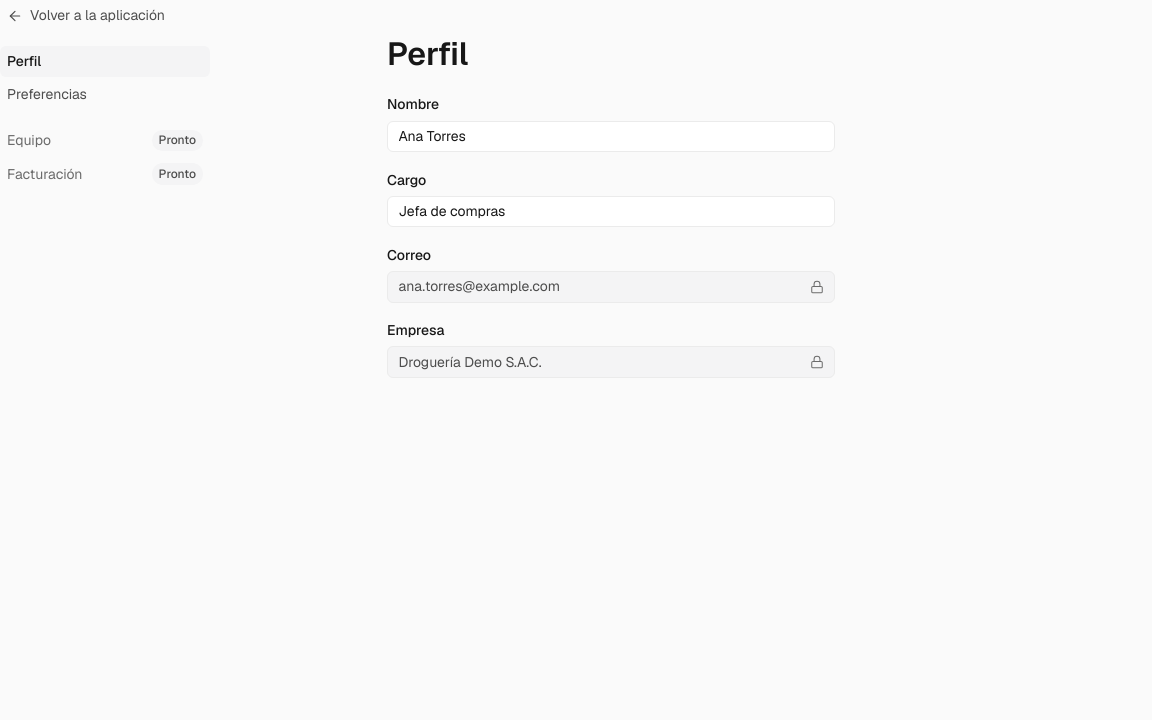
profile (settings) › saves, confirms with a toast and updates the name shown in the app
Replace the text in the field labelled "Nombre" with "Ana Torres Díaz" at (611, 136), box [398, 126, 824, 147]
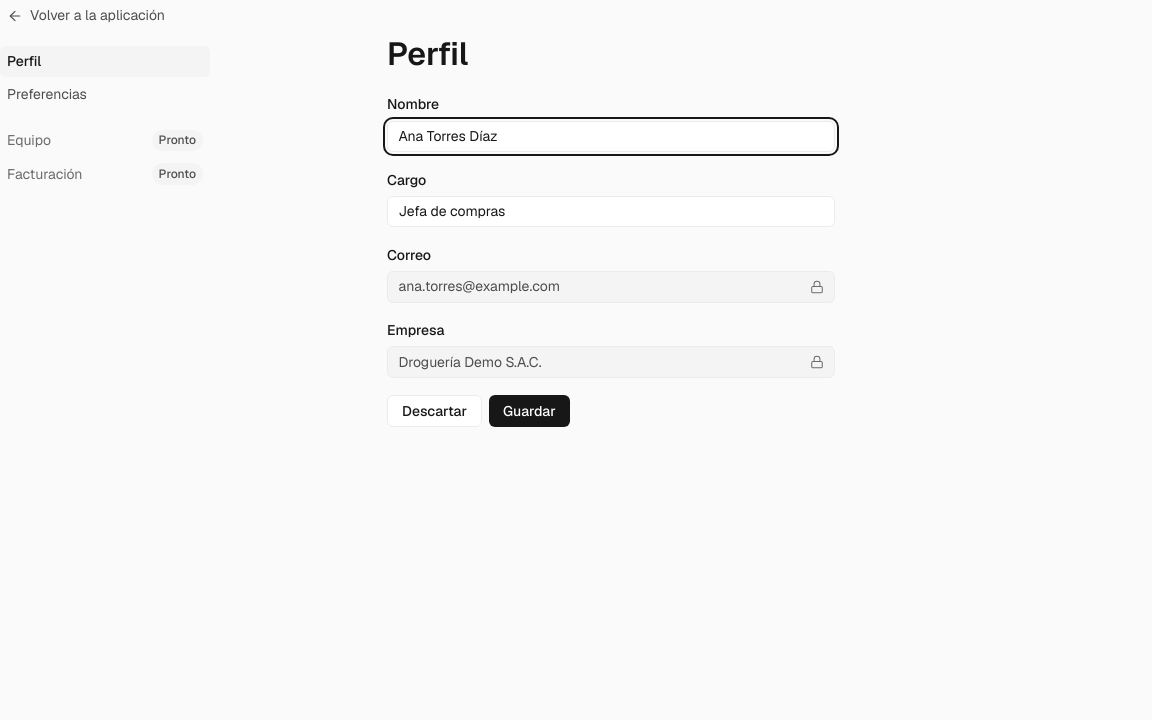
Click the button "Guardar" at (529, 411), box [489, 395, 570, 427]
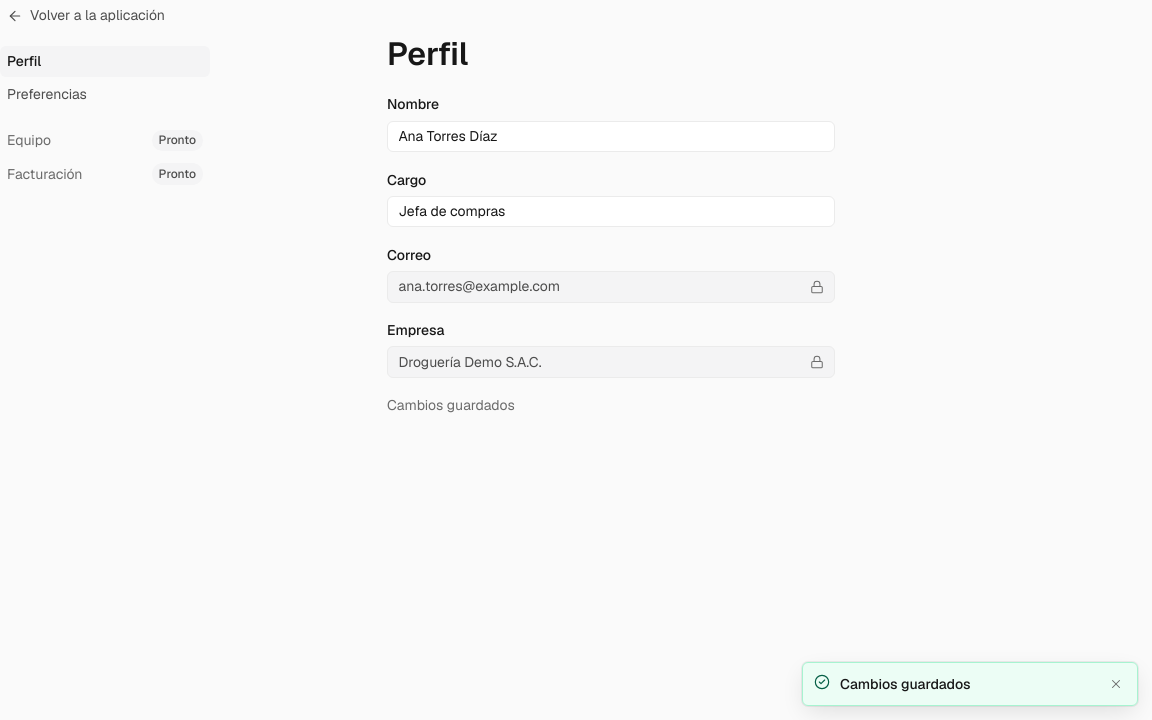
Result: the button "Guardar" is gone
